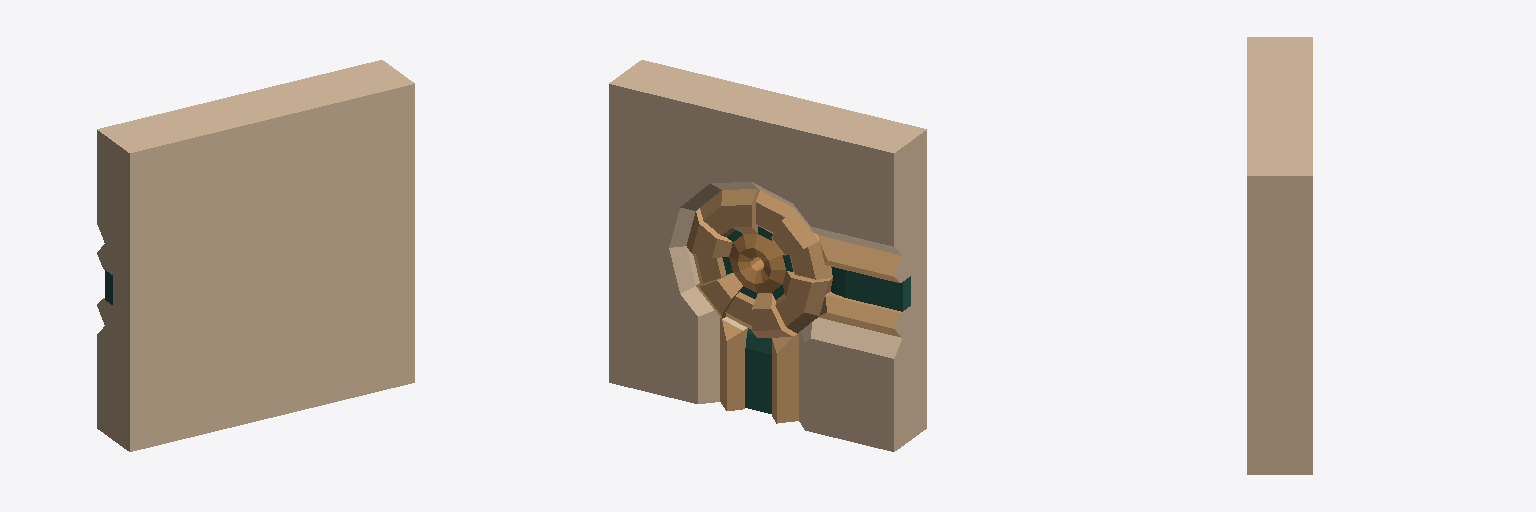
The model's file is Puzzle_Wall_Conduit_Emitter_Corner.obj.
The picture shows the model from 3 angles: view 1: azimuth 30°, elevation 25°; view 2: azimuth 150°, elevation 25°; view 3: azimuth 270°, elevation 25°; orthographic projection.
Visible parts, largest first — view 1: object4; view 2: object4, object5, object2, object1, object3; view 3: object4.
Boxes of the visible parts, x1,y1,x2,y2 form: object4: [97, 60, 414, 451]; object4: [609, 60, 926, 451]; object5: [686, 189, 832, 337]; object2: [831, 267, 910, 311]; object1: [745, 328, 771, 413]; object3: [722, 226, 792, 299]; object4: [1247, 37, 1312, 474].
Bounding box in the file's own units: 1 × 1 × 0.2.